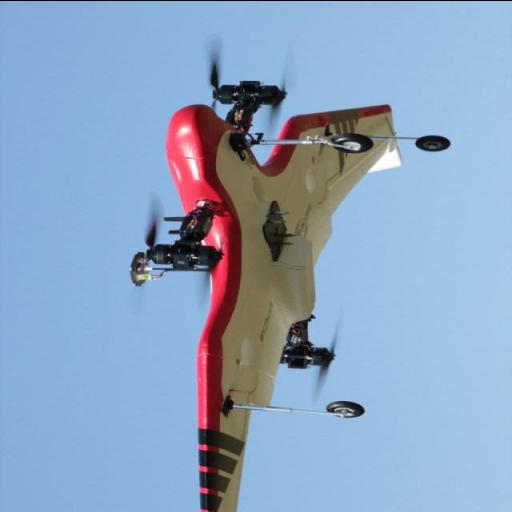uav: (126, 61, 424, 512)
